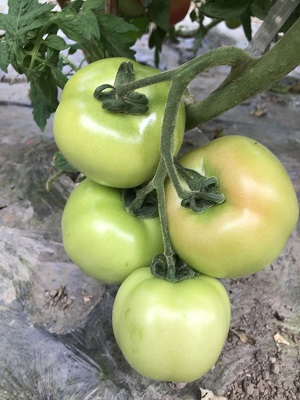immature-tomato: (166, 137, 299, 278), (53, 57, 187, 187), (110, 265, 232, 385), (61, 178, 189, 286)
